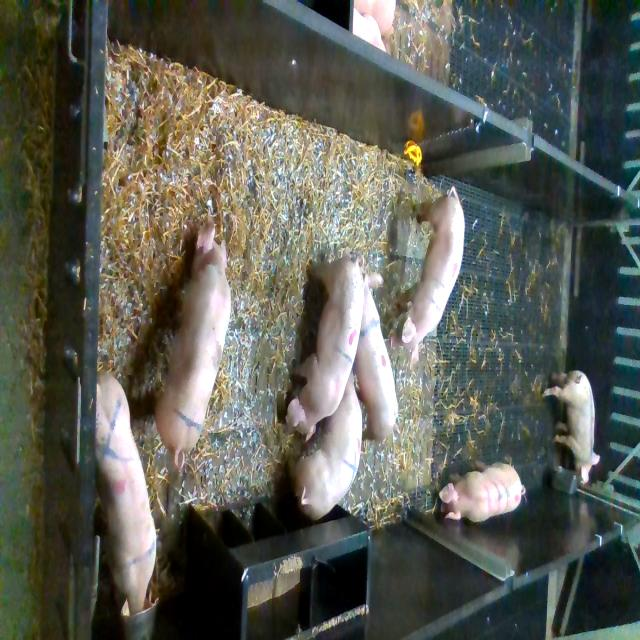pig: (131, 222, 231, 472), (95, 371, 160, 616), (286, 253, 365, 442), (390, 185, 464, 370), (288, 370, 362, 520), (352, 272, 399, 443), (542, 371, 600, 484), (439, 460, 526, 522)
